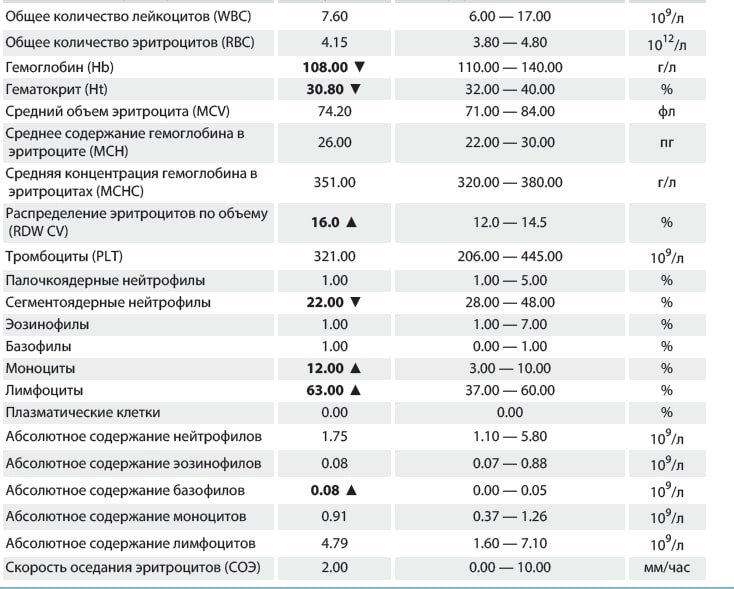column: (5, 4, 269, 576), (456, 4, 564, 576), (302, 4, 365, 576), (643, 4, 690, 576)
